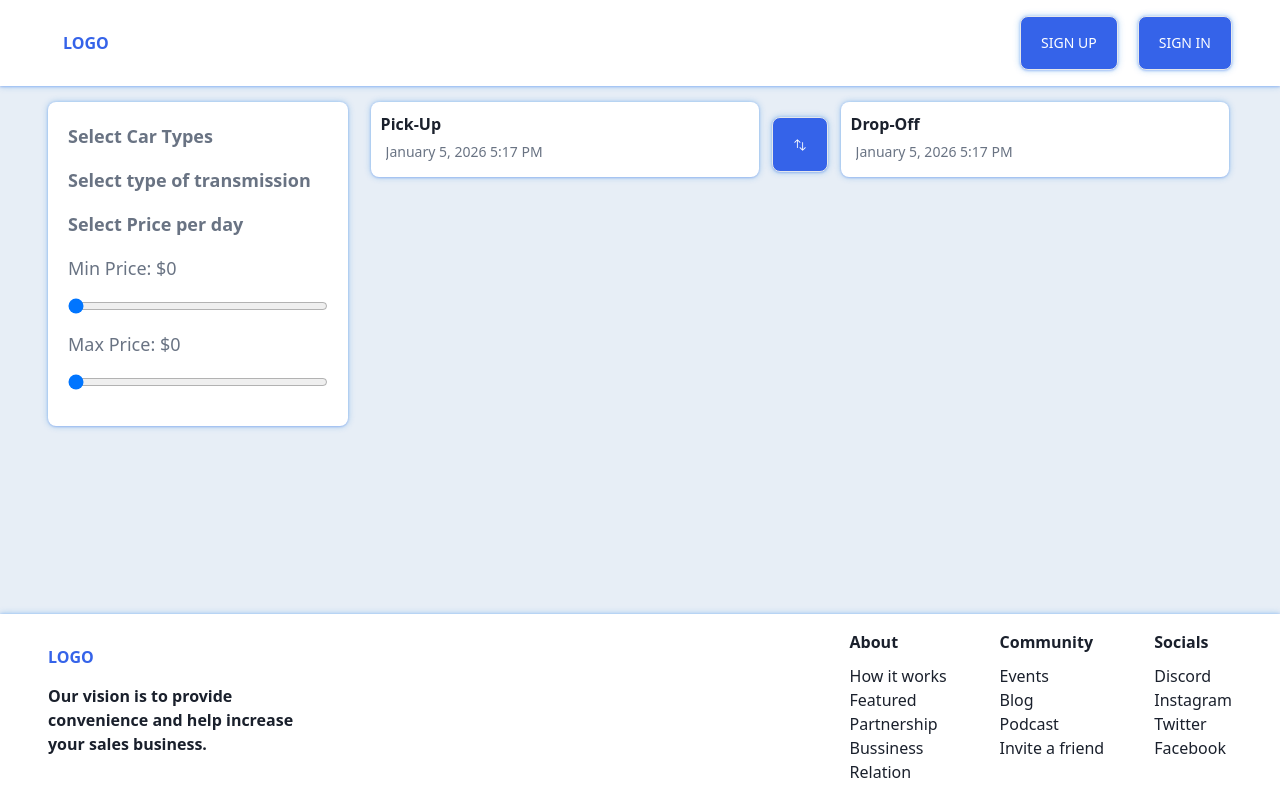
SignUpForm validation testing › displays error for short names
The width and height of the screenshot is (1280, 800).
Click the button "SIGN UP" at (1069, 43), box left=1020, top=16, right=1118, bottom=70
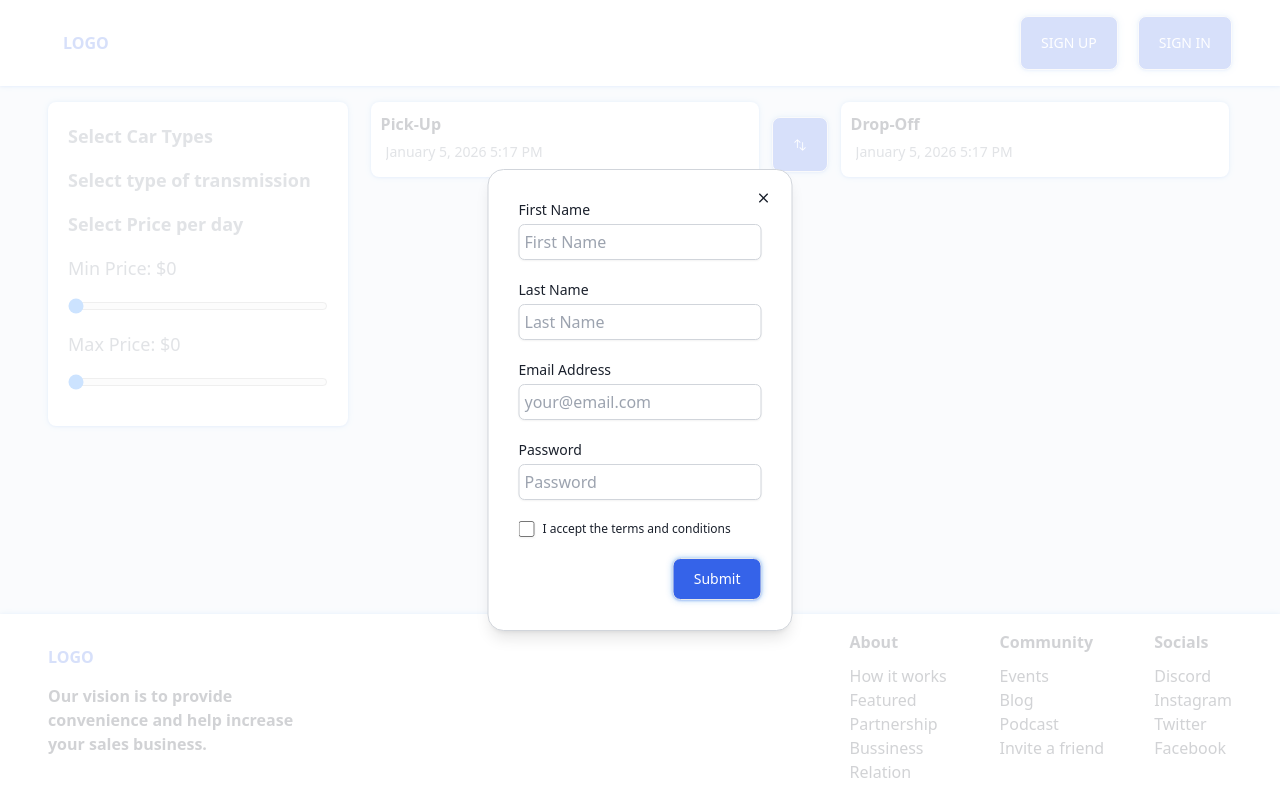
Type "A" into the field named "firstName" at (641, 242), box left=519, top=224, right=762, bottom=260
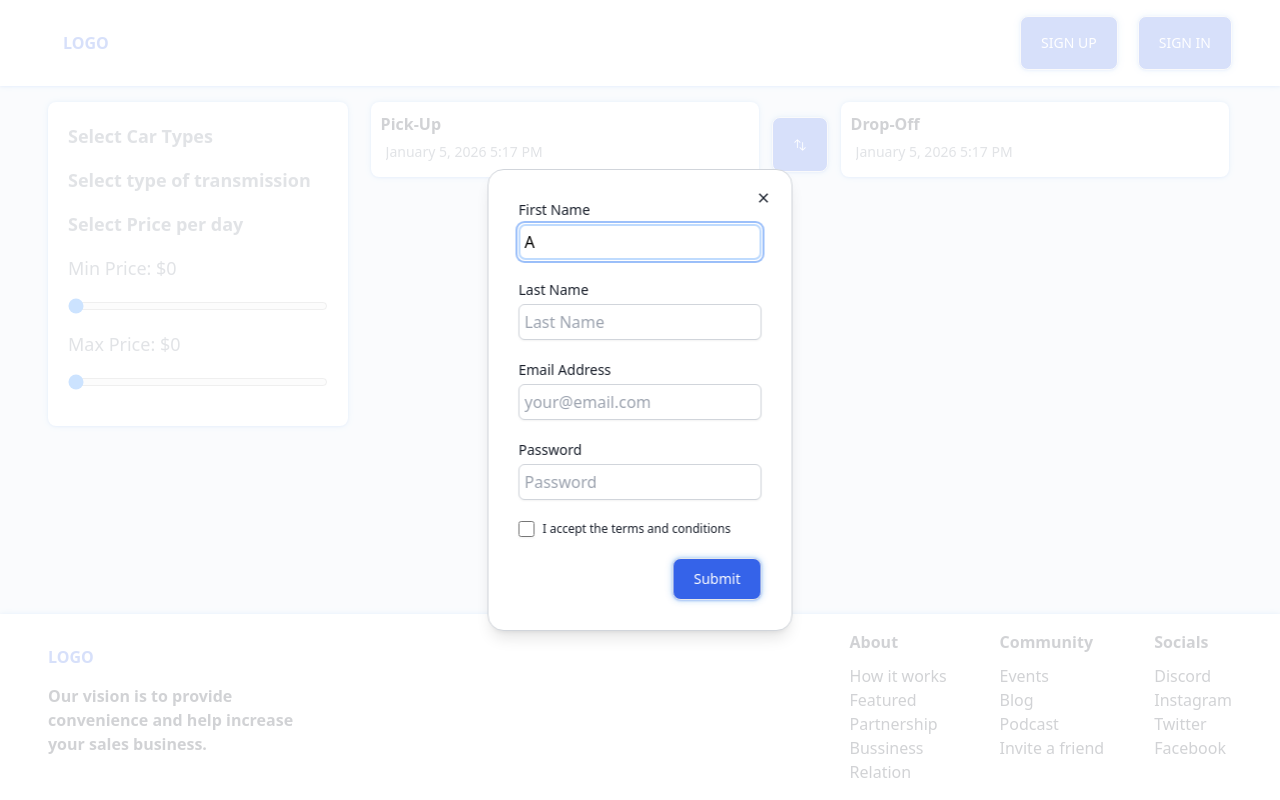
Type "B" into the field named "lastName" at (641, 322), box left=519, top=304, right=762, bottom=340
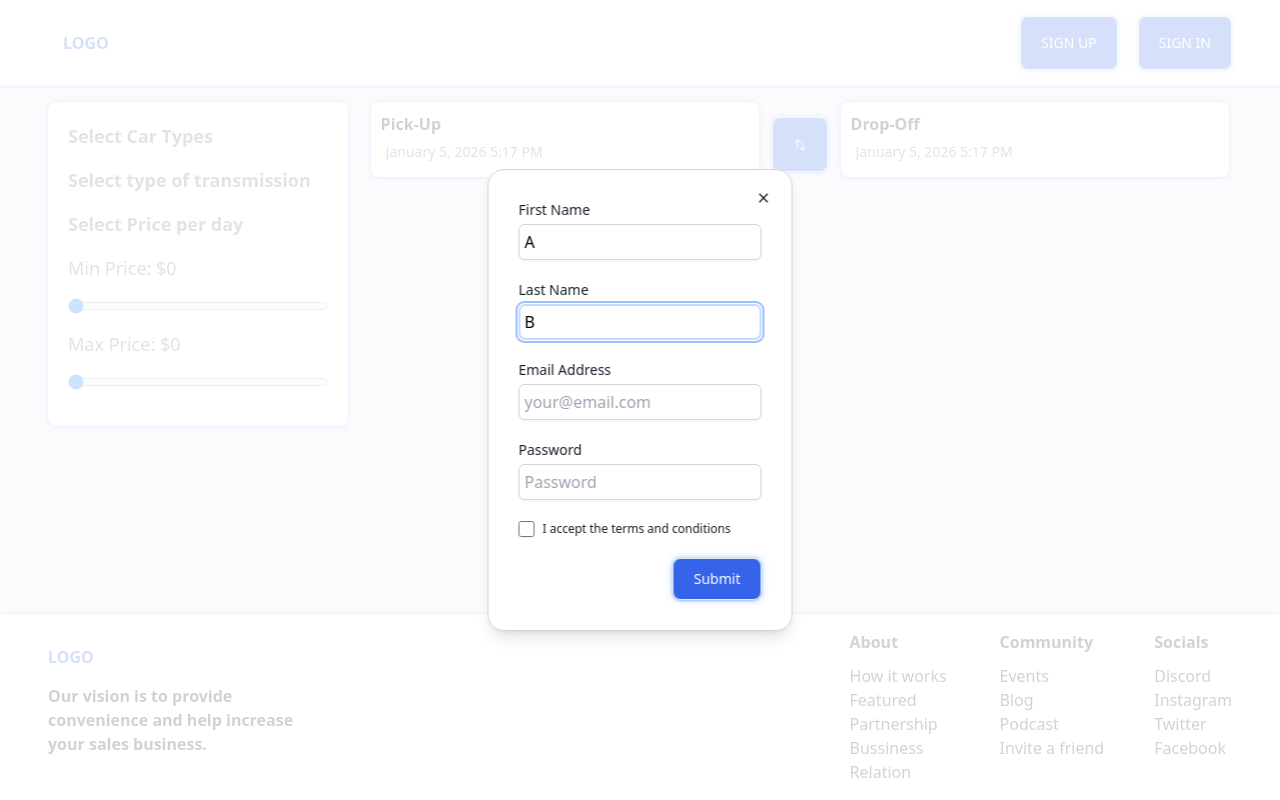
Submit the form with test id "signUpForm", box left=519, top=200, right=762, bottom=600
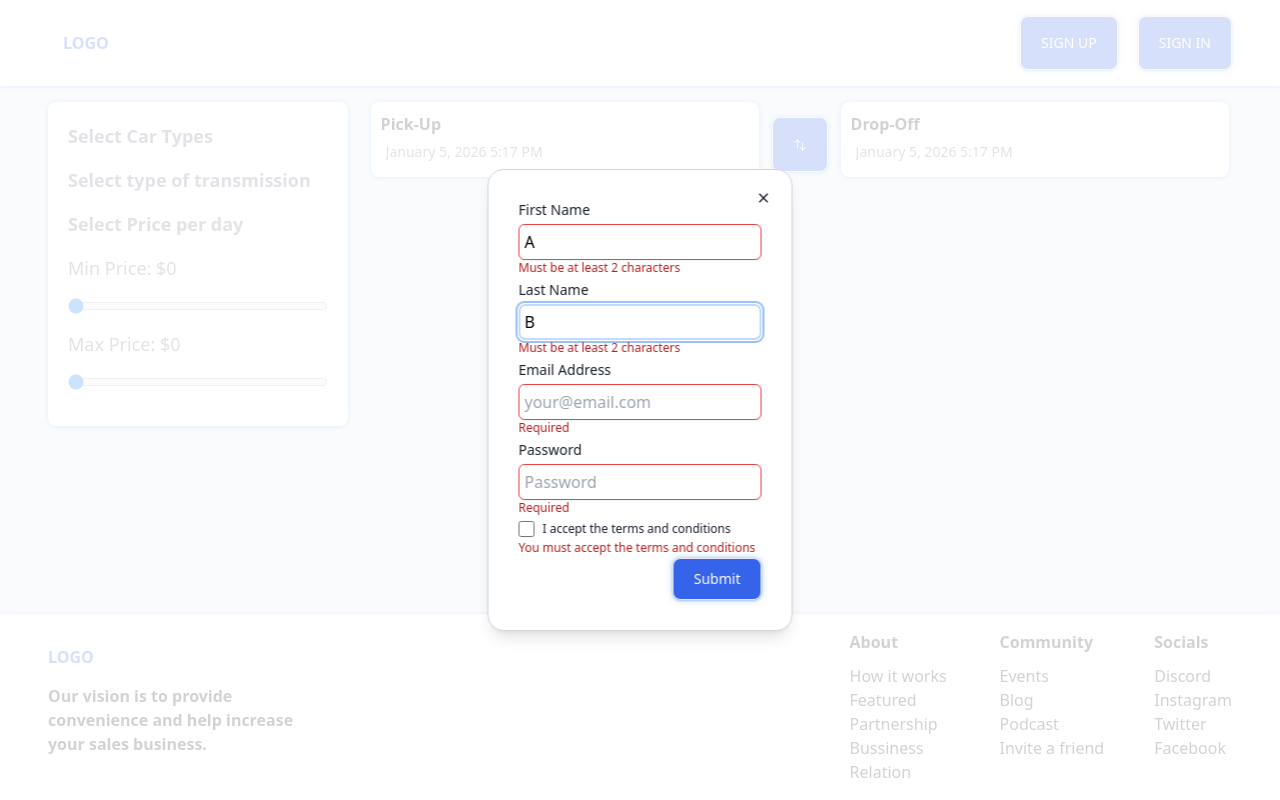
Check: the 1st text "Must be at least 2 characters" is shown, box left=518, top=260, right=680, bottom=276
